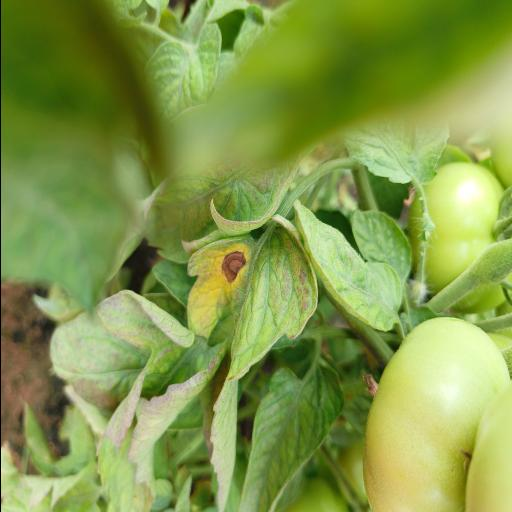Early Blight: (178, 229, 318, 379)
